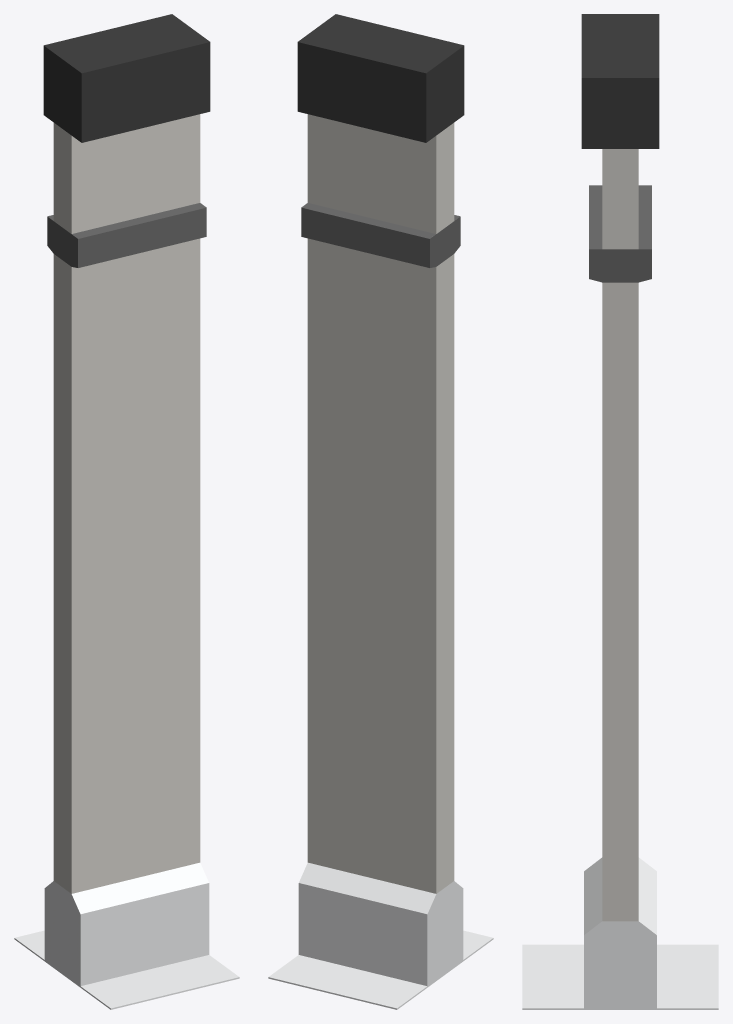
File: Wall.fbx
3 views of the same model, side by side, from view 1: azimuth 30°, elevation 25°; view 2: azimuth 150°, elevation 25°; view 3: azimuth 270°, elevation 25° (orthographic).
Parts seen in each view (by area): view 1: Wall; view 2: Wall; view 3: Wall.
Part boxes in pixels (<box>): Wall: <box>14,14,239,1009</box>; Wall: <box>268,14,493,1009</box>; Wall: <box>522,14,718,1009</box>.
Bounding box in the file's own units: 1.32 × 1.72 × 9.
